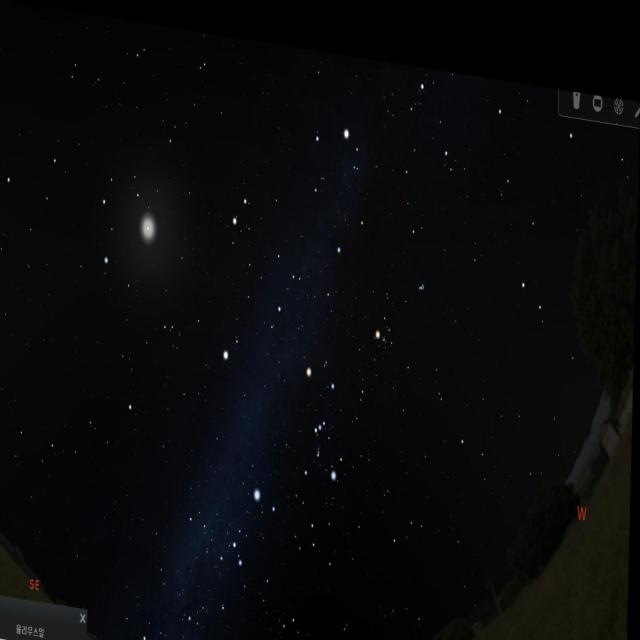canis_major: (230, 464, 283, 576)
canis_minor: (224, 316, 242, 364)
gemini: (227, 173, 306, 316)
leo: (0, 132, 148, 276)
moon: (136, 197, 175, 263)
orion: (294, 346, 350, 492)
pleiades: (416, 262, 428, 284)
taurus: (369, 240, 434, 360)
